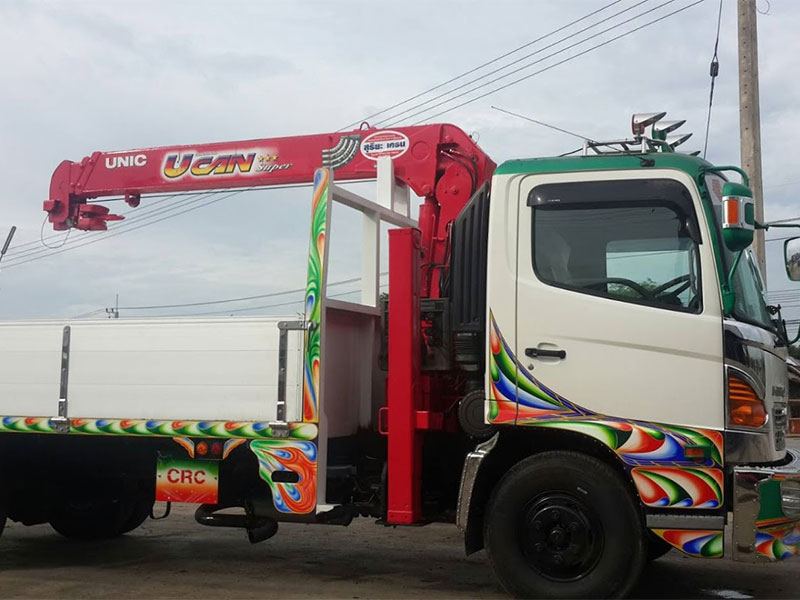truck: (299, 132, 795, 595)
